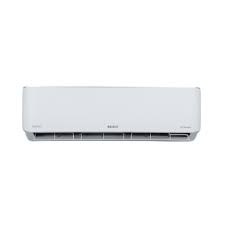ac: (18, 83, 205, 146)
